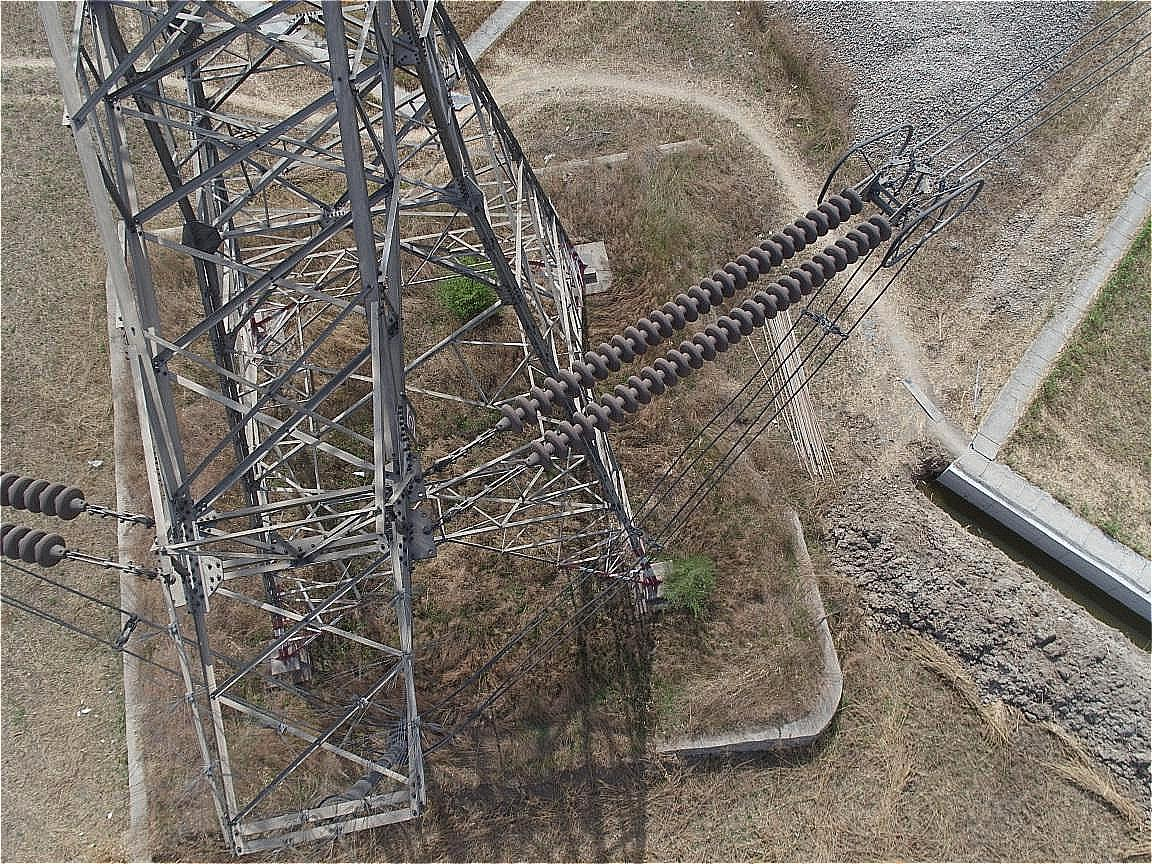insultor1: (502, 189, 891, 472)
